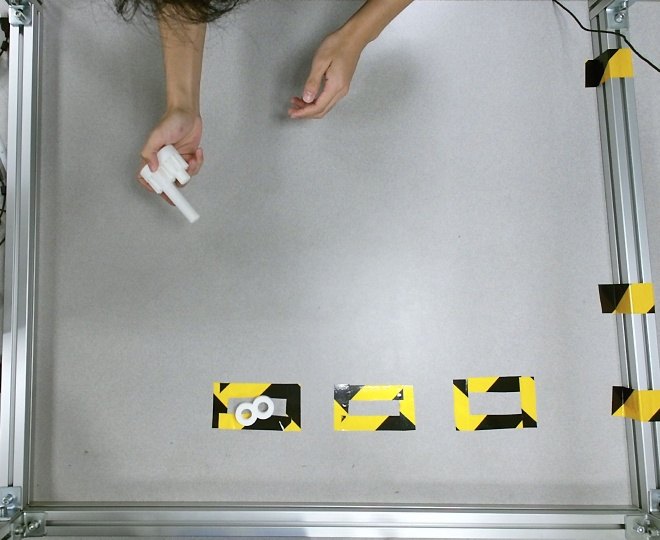stage_3: (140, 144, 201, 225)
